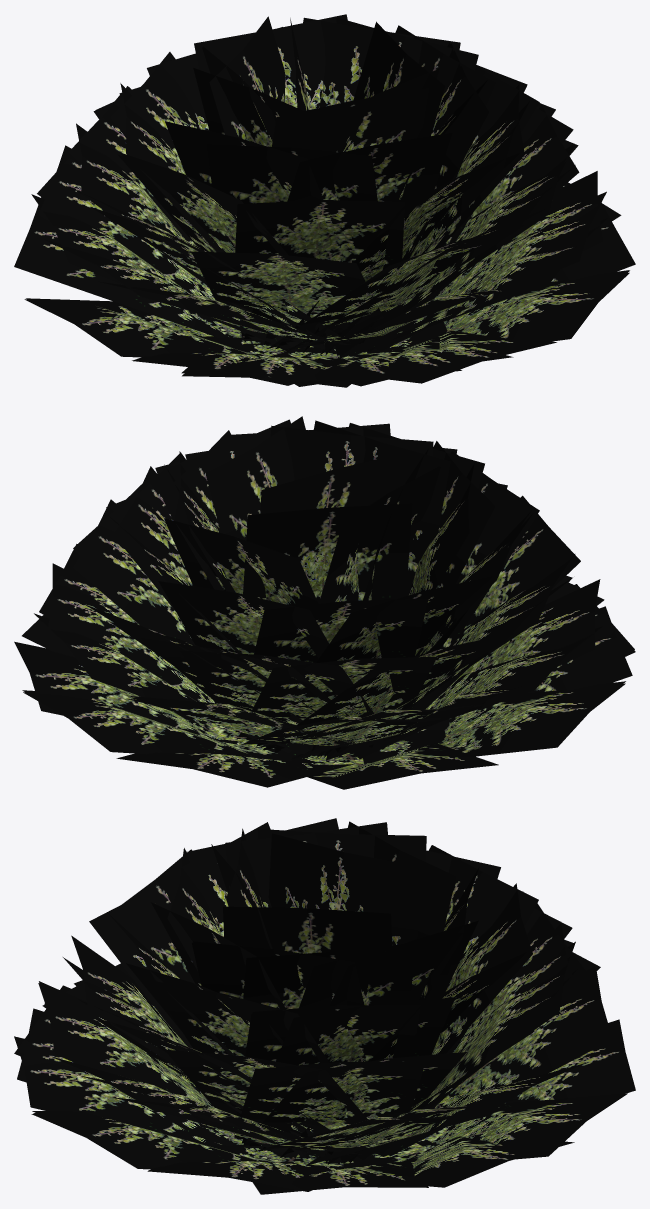
File: PLANT 2.fbx
3 views of the same model, one above another, from view 1: azimuth 30°, elevation 25°; view 2: azimuth 150°, elevation 25°; view 3: azimuth 270°, elevation 25° (orthographic).
Parts seen in each view (by area): view 1: TexturesCom_Branches0038_1_masked_S.062; view 2: TexturesCom_Branches0038_1_masked_S.062; view 3: TexturesCom_Branches0038_1_masked_S.062.
Part boxes in pixels (x1,y1,x2,y2): TexturesCom_Branches0038_1_masked_S.062: [14, 14, 635, 387]; TexturesCom_Branches0038_1_masked_S.062: [14, 416, 635, 789]; TexturesCom_Branches0038_1_masked_S.062: [14, 818, 635, 1194].
Bounding box in the file's own units: 97.66 × 48.62 × 97.66.
Materials: 1 (1 with a texture image).
